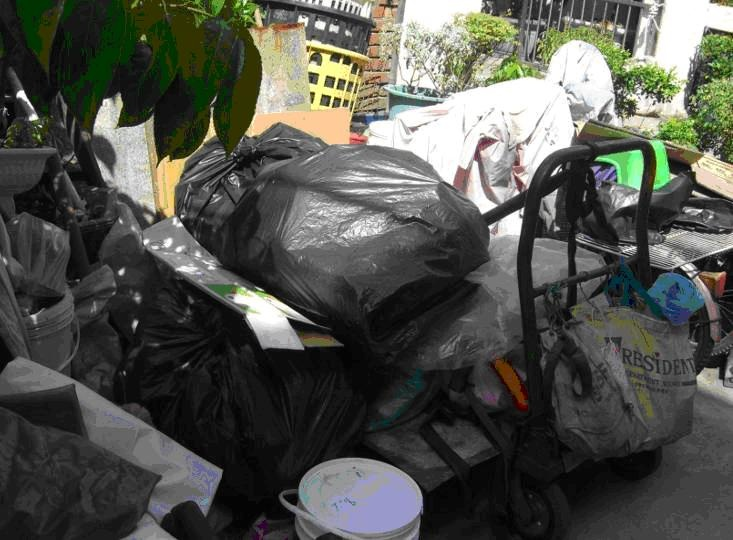plastic_bag: (249, 145, 489, 361), (136, 288, 351, 505), (1, 393, 168, 540), (178, 123, 331, 278), (548, 300, 696, 460), (3, 212, 71, 304)
plate: (297, 453, 423, 534)
